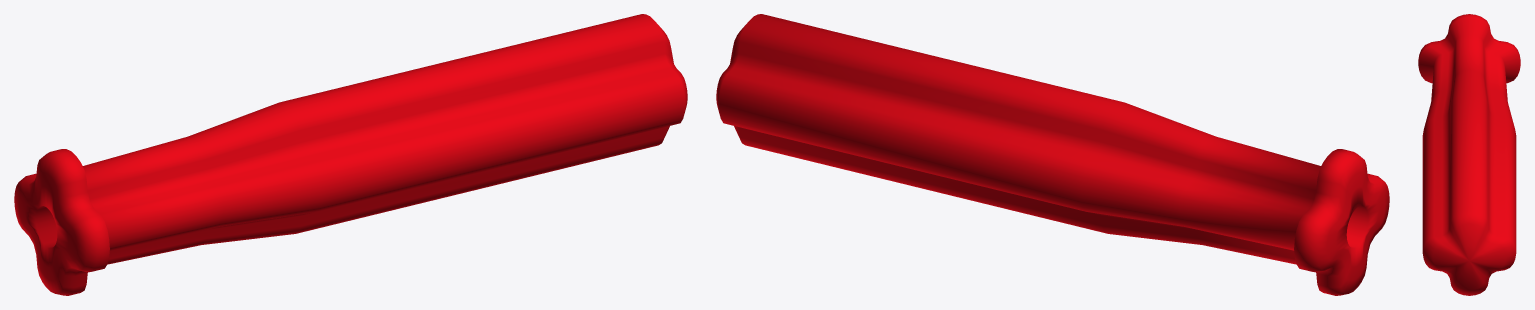
The model's file is screwdriver_grip.fbx.
3 views of the same model, side by side, from view 1: azimuth 30°, elevation 25°; view 2: azimuth 150°, elevation 25°; view 3: azimuth 270°, elevation 25° (orthographic). The views are drawn at different scales.
Parts seen in each view (by area): view 1: mainasudoraiba; view 2: mainasudoraiba; view 3: mainasudoraiba.
Boxes of the visible parts, <box> form: mainasudoraiba: <box>14,14,687,295</box>; mainasudoraiba: <box>716,14,1389,295</box>; mainasudoraiba: <box>1418,14,1520,295</box>.
Bounding box in the file's own units: 10.11 × 2.14 × 2.14.
